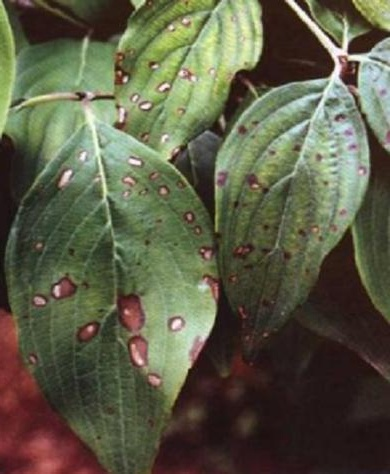Anthracnose: (220, 100, 378, 303), (77, 139, 175, 404), (110, 19, 204, 127)
